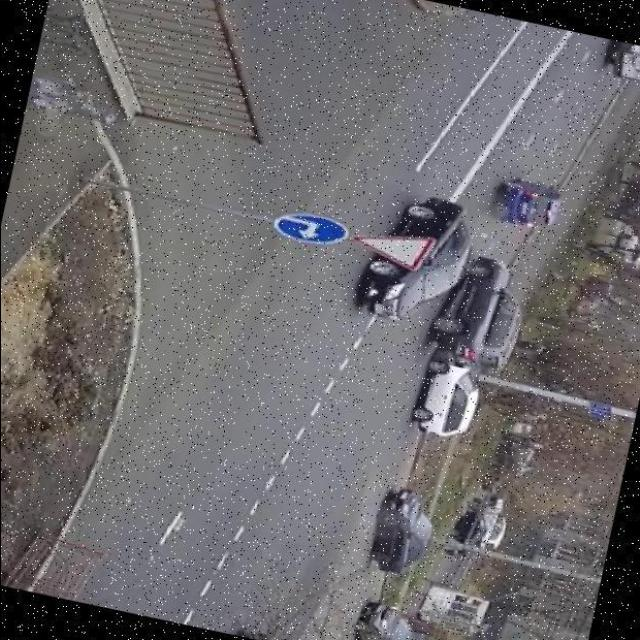accident: (406, 247, 534, 449)
